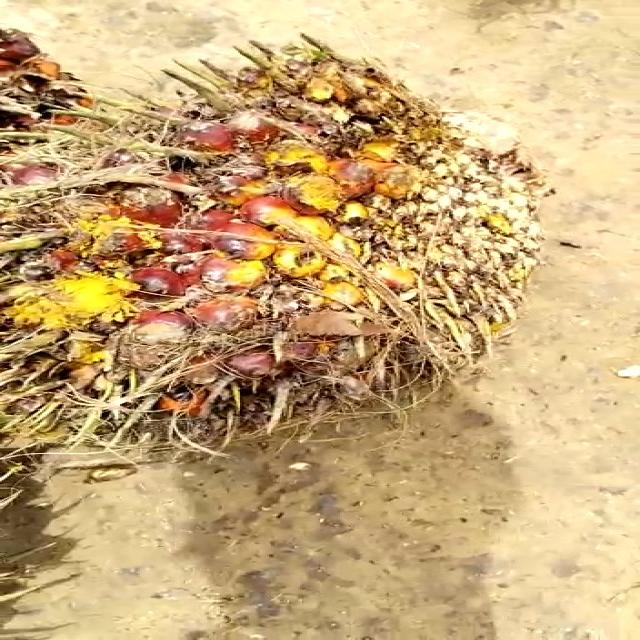palm oil: (0, 42, 561, 448)
